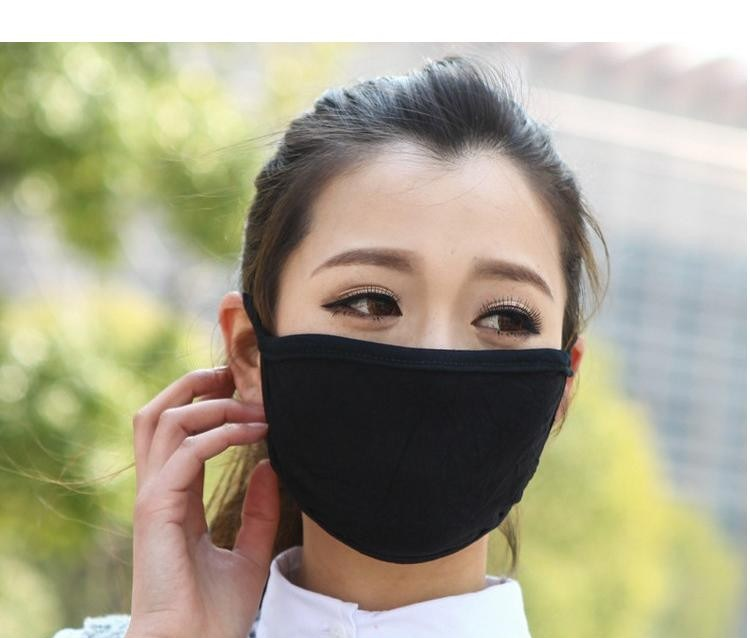face_mask: (272, 161, 565, 524)
